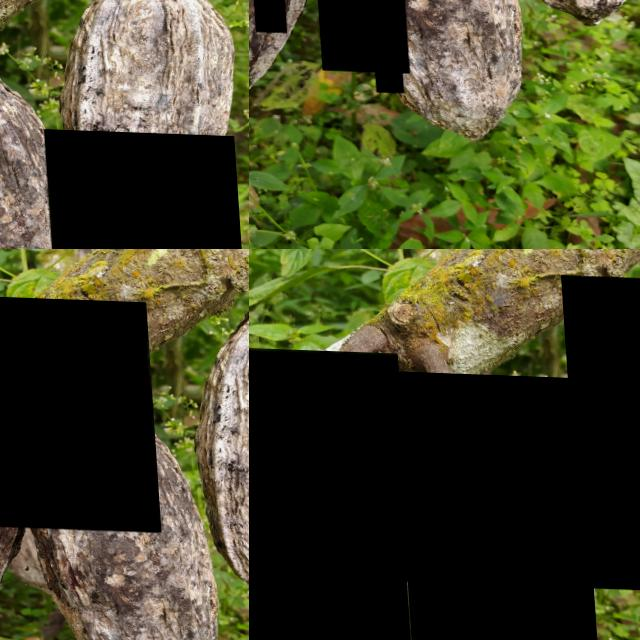Fitoftora: (390, 369, 594, 640), (249, 345, 413, 640), (560, 272, 640, 589), (40, 125, 244, 249), (308, 0, 403, 70)
Monilia: (0, 293, 157, 529)
Sana: (369, 56, 398, 91), (249, 0, 281, 31)
